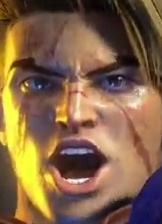kevin: (15, 14, 161, 222)
